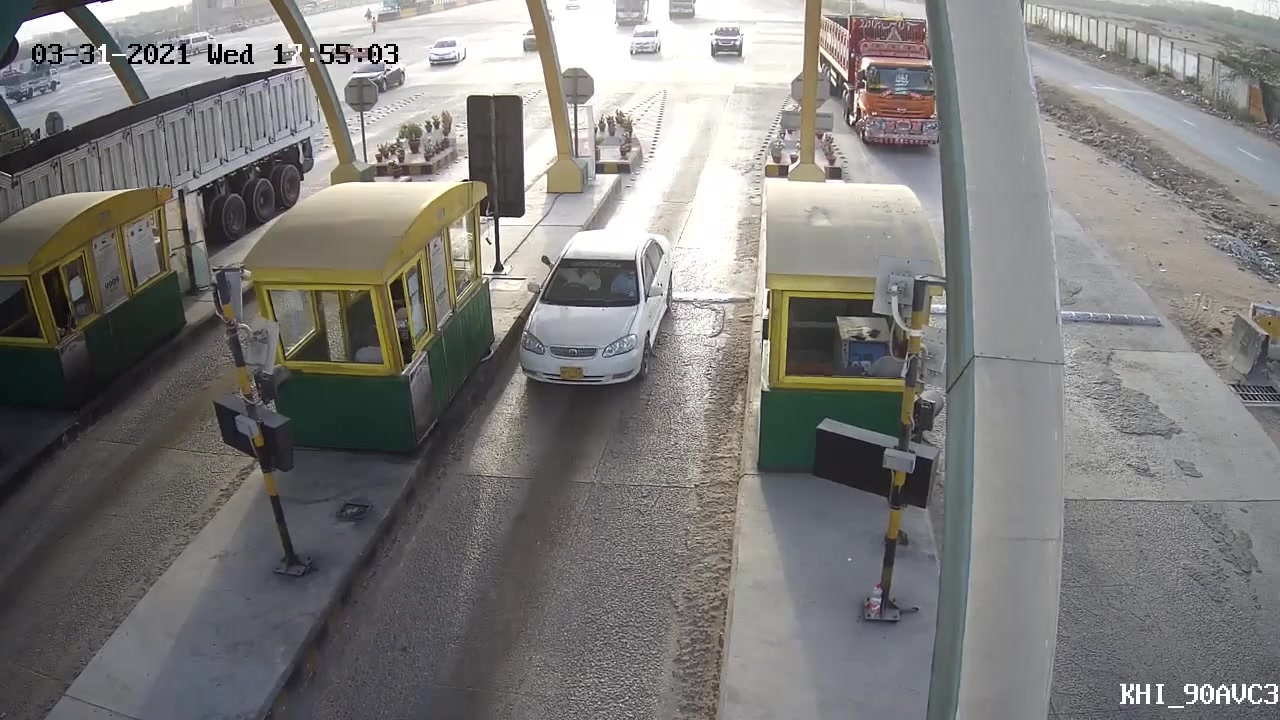F1: (518, 227, 681, 393)
